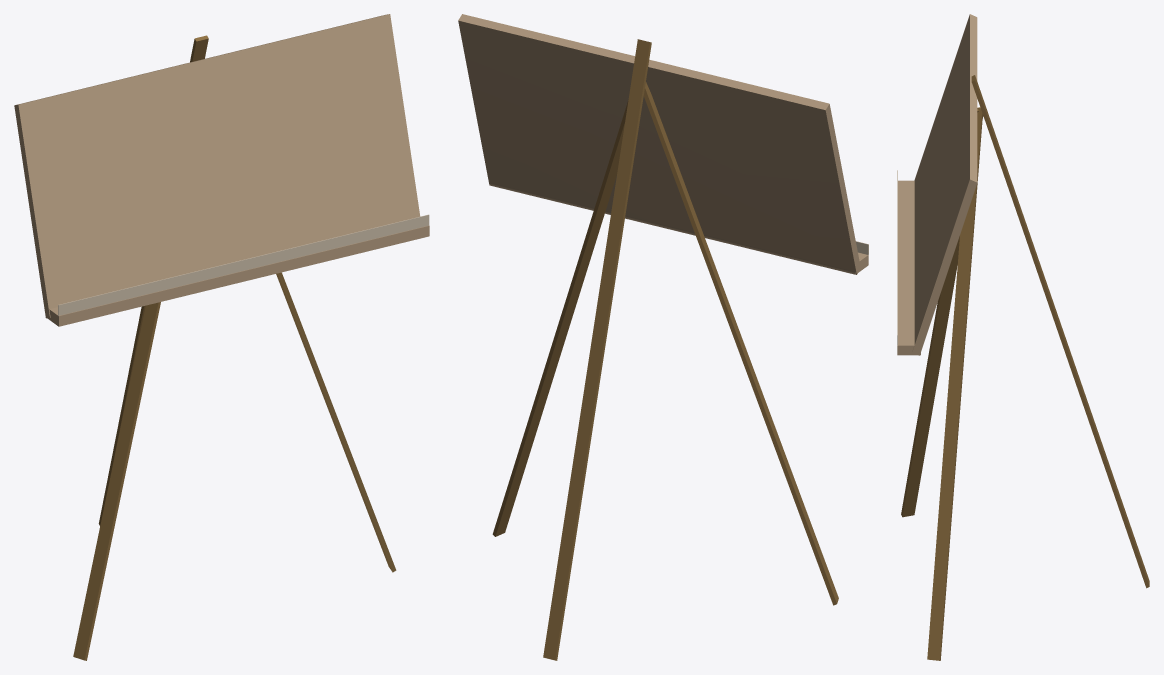
The model's file is board.gltf.
The picture shows the model from 3 angles, left to right: view 1: azimuth 30°, elevation 25°; view 2: azimuth 150°, elevation 25°; view 3: azimuth 270°, elevation 25°; orthographic projection. The views are drawn at different scales.
Parts seen in each view (by area): view 1: Mesh_Mesh_head_geo.001_lambert2SG.001_0; view 2: Mesh_Mesh_head_geo.001_lambert2SG.001_0; view 3: Mesh_Mesh_head_geo.001_lambert2SG.001_0.
Part boxes in pixels (box(x1,y1,x2,y2)): Mesh_Mesh_head_geo.001_lambert2SG.001_0: box(14, 14, 429, 660); Mesh_Mesh_head_geo.001_lambert2SG.001_0: box(458, 14, 868, 660); Mesh_Mesh_head_geo.001_lambert2SG.001_0: box(897, 14, 1149, 660).
Bounding box in the file's own units: 2.87 × 4.1 × 1.85.
